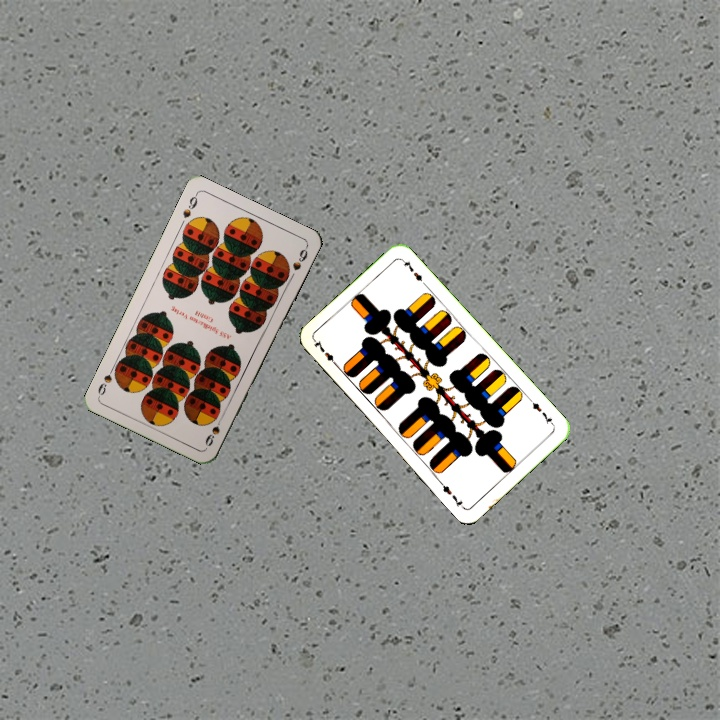E7: (525, 395, 557, 429), (310, 336, 341, 370)
S9: (201, 411, 226, 449), (179, 190, 200, 221)
